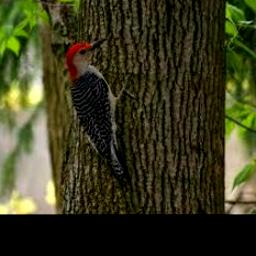Woodpecker: (66, 36, 135, 181)
